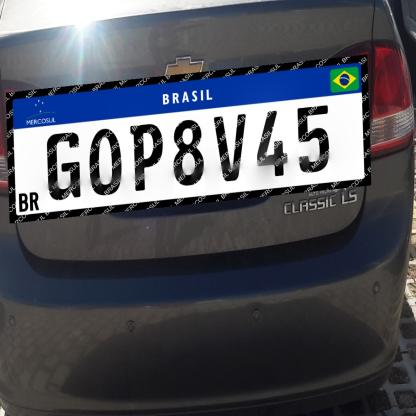PlacaM: (6, 55, 371, 223)
